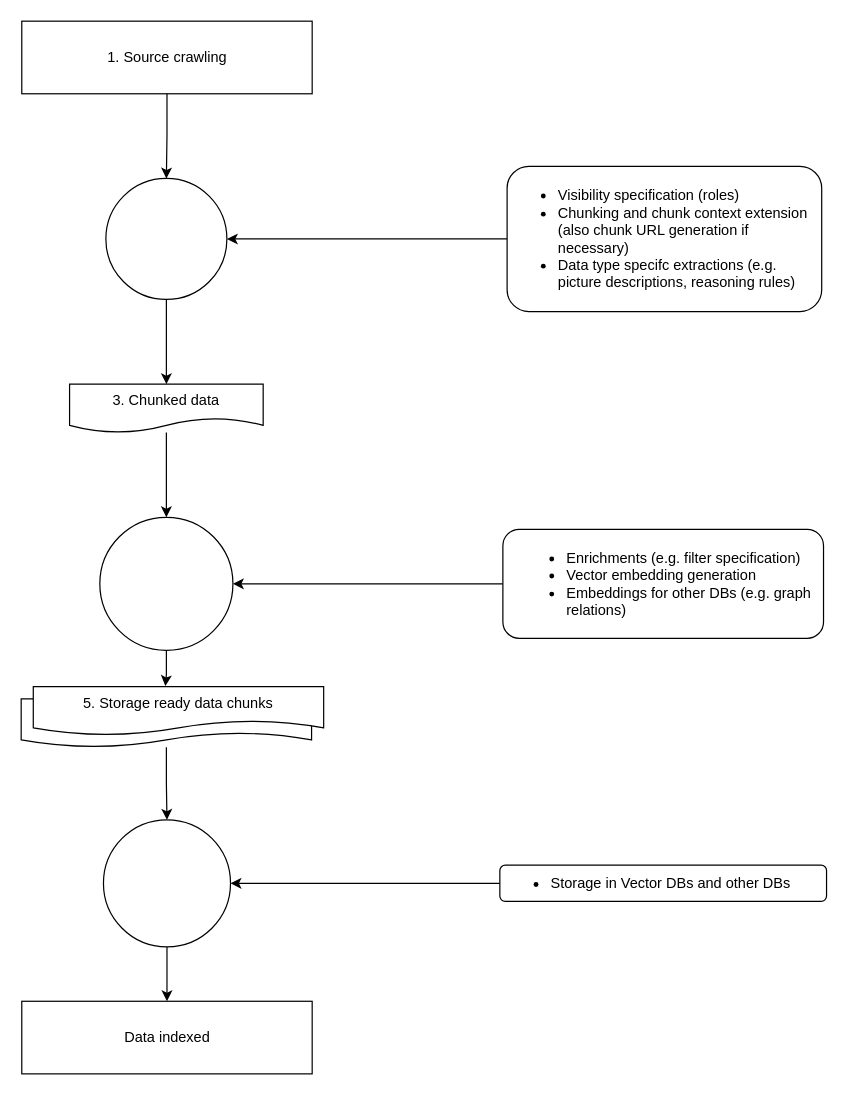
Image size: 848x1095. Some labels were removed from this diagram. Each missing label, with the centre of its shape:
2. Data preprocessors: (x=166, y=238)
4. Data embedding: (x=166, y=583)
6. Storage in DBs: (x=166, y=883)
